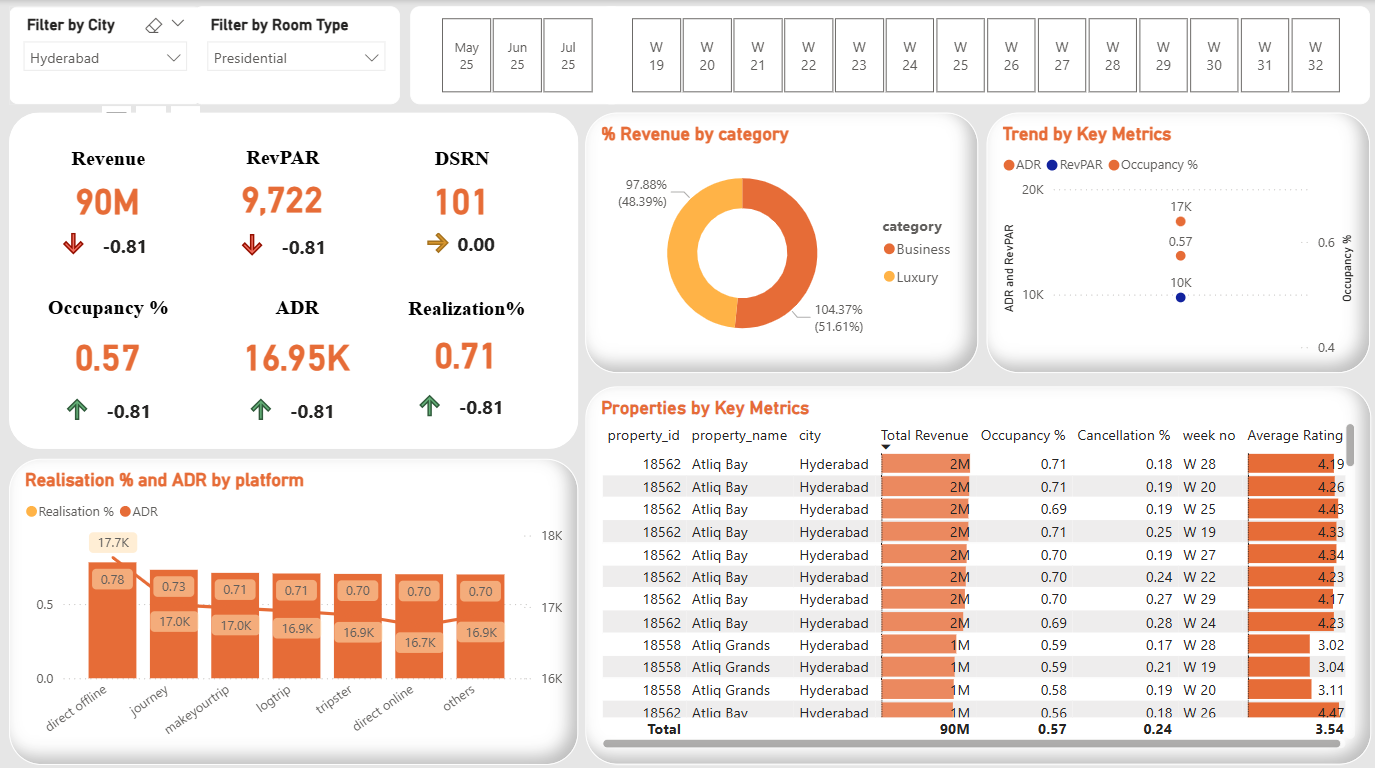

What the dashboard file says about the page in this screenshot:
{"tool":"powerbi","page":{"name":"Page 1","canvas":[1280,720],"ordinal":1},"visuals":[{"type":"slicer","fields":{"Values":["Dim Hotels.city"]},"box":[8.8,5.9,179.7,91.3],"z":0},{"type":"slicer","fields":{"Values":["dim_rooms.room_class"]},"box":[179.7,5.9,193,91.3],"z":1000},{"type":"slicer","fields":{"Values":["Dim Date.mmm yy"]},"box":[383,5.9,197.4,91.3],"z":2000},{"type":"slicer","fields":{"Values":["Dim Date.week no"]},"box":[559.7,5.9,715.9,91.3],"z":3000},{"type":"tableEx","title":"Properties by Key Metrics","fields":{"Values":["Dim Hotels.property_id","Dim Hotels.property_name","Dim Hotels.city","Key metrics.Total Revenue","Key metrics.Occupancy %","Key metrics.Cancellation %","Dim Date.week no","Key metrics.Average Rating"]},"box":[544.8,359.4,731.4,351.8],"z":4000},{"type":"donutChart","title":"% Revenue by category","fields":{"Category":["Dim Hotels.category"],"Y":["Key metrics.Occupancy %"]},"box":[544.8,104.7,365.7,242.1],"z":5000},{"type":"shape","box":[8.8,105,529.7,313],"z":6000},{"type":"tableEx","fields":{"Values":["Key metrics.Revenue WoW change %"]},"box":[47.1,181.2,101.6,67.8],"z":7000},{"type":"card","title":"Revenue","fields":{"Values":["Key metrics.Total Revenue"]},"box":[22.1,132.6,157.6,84],"z":8000},{"type":"tableEx","fields":{"Values":["Key metrics.Revenue WoW change %"]},"box":[213.6,182.6,101.6,67.8],"z":9000},{"type":"card","title":"RevPAR","fields":{"Values":["Key metrics.RevPAR"]},"box":[197.4,131.1,131.1,84],"z":10000},{"type":"tableEx","fields":{"Values":["Key metrics.DSRN WoW change %"]},"box":[387.4,179.7,94.3,73.6],"z":11000},{"type":"card","title":"DSRN","fields":{"Values":["Key metrics.DSRN"]},"box":[359.4,132.6,141.4,84],"z":12000},{"type":"tableEx","fields":{"Values":["Key metrics.Revenue WoW change %"]},"box":[51.6,334.4,101.6,67.8],"z":13000},{"type":"card","title":"Occupancy %","fields":{"Values":["Key metrics.Occupancy %"]},"box":[22.1,271,157.6,97.2],"z":14000},{"type":"tableEx","fields":{"Values":["Key metrics.Revenue WoW change %"]},"box":[222.4,334.4,101.6,67.8],"z":15000},{"type":"card","title":"ADR","fields":{"Values":["Key metrics.ADR"]},"box":[200.3,271,153.2,97.2],"z":16000},{"type":"tableEx","fields":{"Values":["Key metrics.Revenue WoW change %"]},"box":[379.6,331.7,100.9,68.1],"z":17000},{"type":"card","title":"Realization%","fields":{"Values":["Key metrics.Realisation %"]},"box":[359.4,272.5,150.2,92.8],"z":18000},{"type":"lineStackedColumnComboChart","title":"Realisation % and ADR by platform","fields":{"Category":["Fact Booking.booking_platform"],"Y2":["Key metrics.ADR"],"Y":["Key metrics.Realisation %"]},"box":[8.8,426.2,529.7,285],"z":19000},{"type":"lineChart","title":"Trend by Key Metrics","fields":{"Y":["Key metrics.ADR","Key metrics.RevPAR"],"Y2":["Key metrics.Occupancy %"]},"box":[918.1,104.7,356.9,242.1],"z":20000}]}

Visuals, with their boxes in screenshot pixels (x1, y1, x2, y2), scaled from the page's 1280x720 canvas onto the 1375x768 screenshot:
slicer - Dim Hotels.city: pyautogui.locateOnScreen(9, 6, 202, 104)
slicer - dim_rooms.room_class: pyautogui.locateOnScreen(193, 6, 400, 104)
slicer - Dim Date.mmm yy: pyautogui.locateOnScreen(411, 6, 623, 104)
slicer - Dim Date.week no: pyautogui.locateOnScreen(601, 6, 1370, 104)
"Properties by Key Metrics" tableEx: pyautogui.locateOnScreen(585, 383, 1371, 759)
"% Revenue by category" donutChart: pyautogui.locateOnScreen(585, 112, 978, 370)
shape: pyautogui.locateOnScreen(9, 112, 578, 446)
tableEx - Key metrics.Revenue WoW change %: pyautogui.locateOnScreen(51, 193, 160, 266)
"Revenue" card: pyautogui.locateOnScreen(24, 141, 193, 231)
tableEx - Key metrics.Revenue WoW change %: pyautogui.locateOnScreen(229, 195, 339, 267)
"RevPAR" card: pyautogui.locateOnScreen(212, 140, 353, 229)
tableEx - Key metrics.DSRN WoW change %: pyautogui.locateOnScreen(416, 192, 517, 270)
"DSRN" card: pyautogui.locateOnScreen(386, 141, 538, 231)
tableEx - Key metrics.Revenue WoW change %: pyautogui.locateOnScreen(55, 357, 165, 429)
"Occupancy %" card: pyautogui.locateOnScreen(24, 289, 193, 393)
tableEx - Key metrics.Revenue WoW change %: pyautogui.locateOnScreen(239, 357, 348, 429)
"ADR" card: pyautogui.locateOnScreen(215, 289, 380, 393)
tableEx - Key metrics.Revenue WoW change %: pyautogui.locateOnScreen(408, 354, 516, 426)
"Realization%" card: pyautogui.locateOnScreen(386, 291, 547, 390)
"Realisation % and ADR by platform" lineStackedColumnComboChart: pyautogui.locateOnScreen(9, 455, 578, 759)
"Trend by Key Metrics" lineChart: pyautogui.locateOnScreen(986, 112, 1370, 370)
